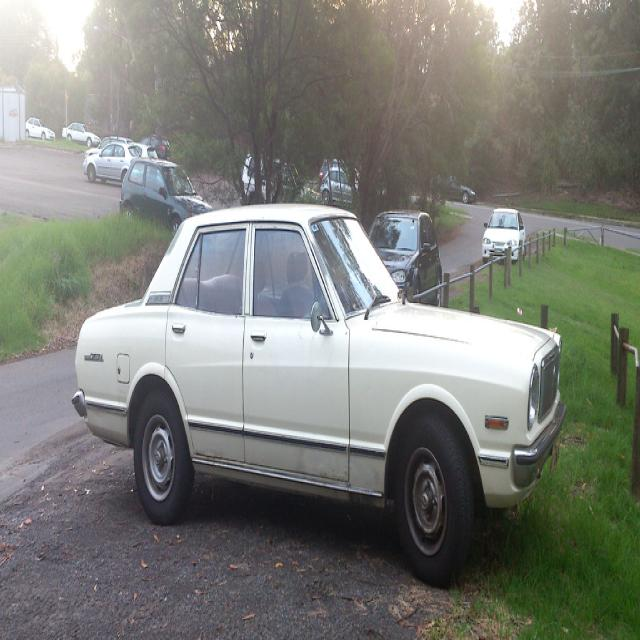car: (67, 203, 569, 574)
